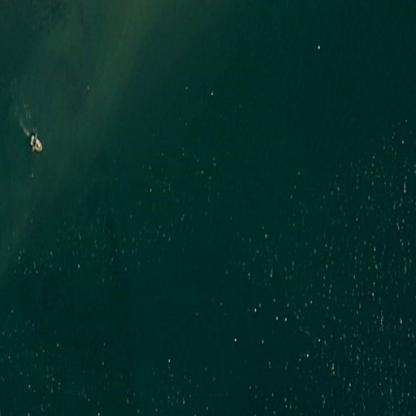ship: (23, 129, 46, 154)
